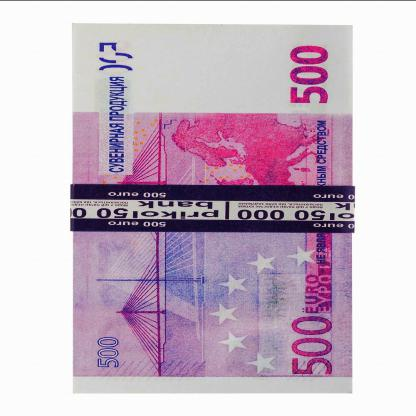euro_banknote: (29, 69, 397, 349)
